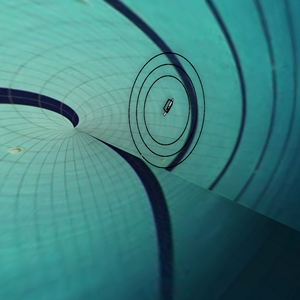circle: (114, 41, 224, 169)
submarine: (159, 95, 178, 118)
